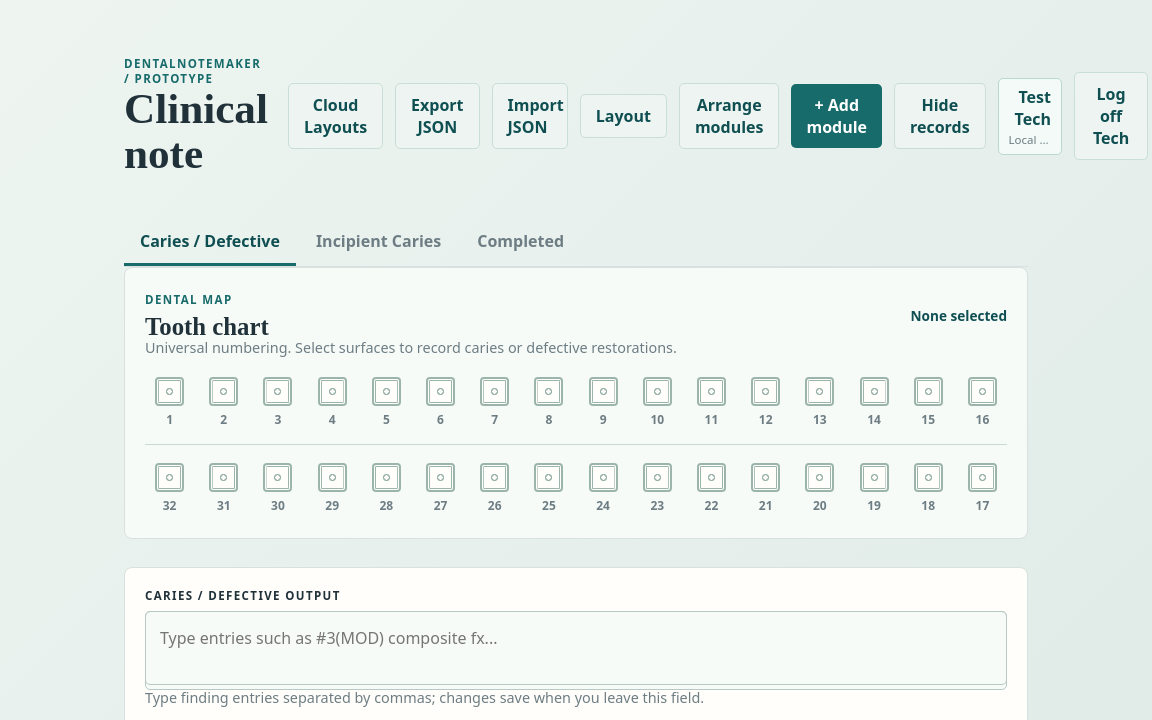
charts incipient caries independently with green surfaces and class 2
Click the tab "Incipient Caries" at point(379, 242), box [300,219,457,266]
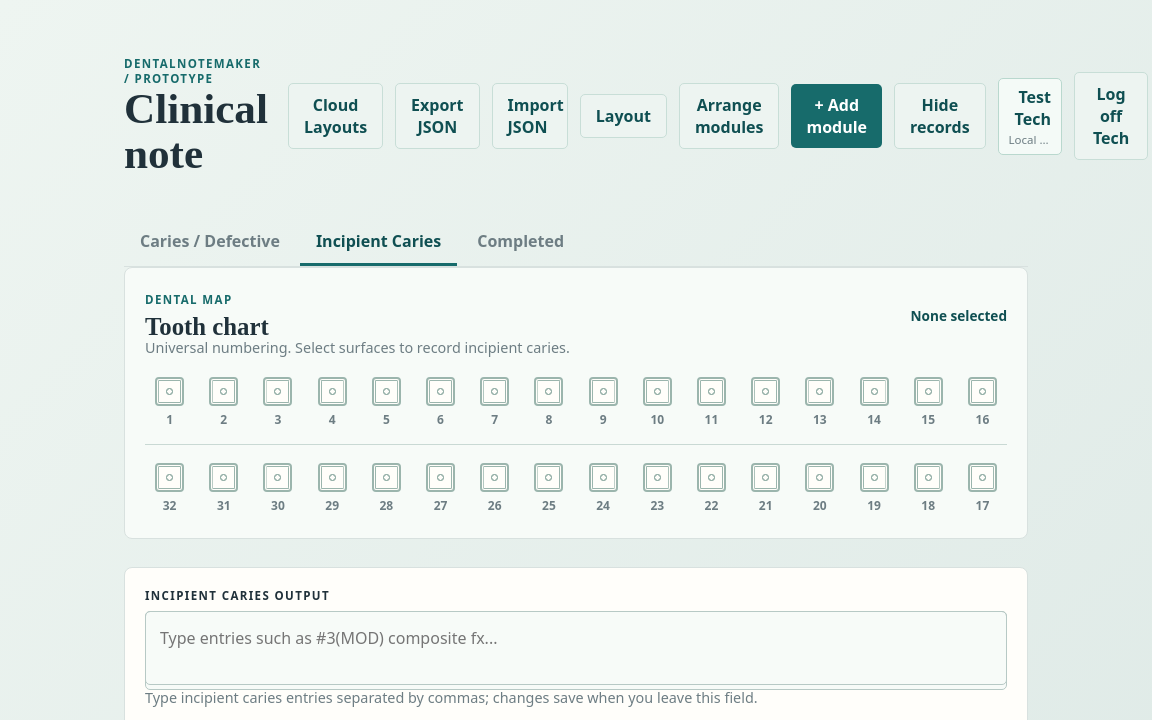
Click the button named "Tooth 30" at point(278, 488), box [253,457,303,518]
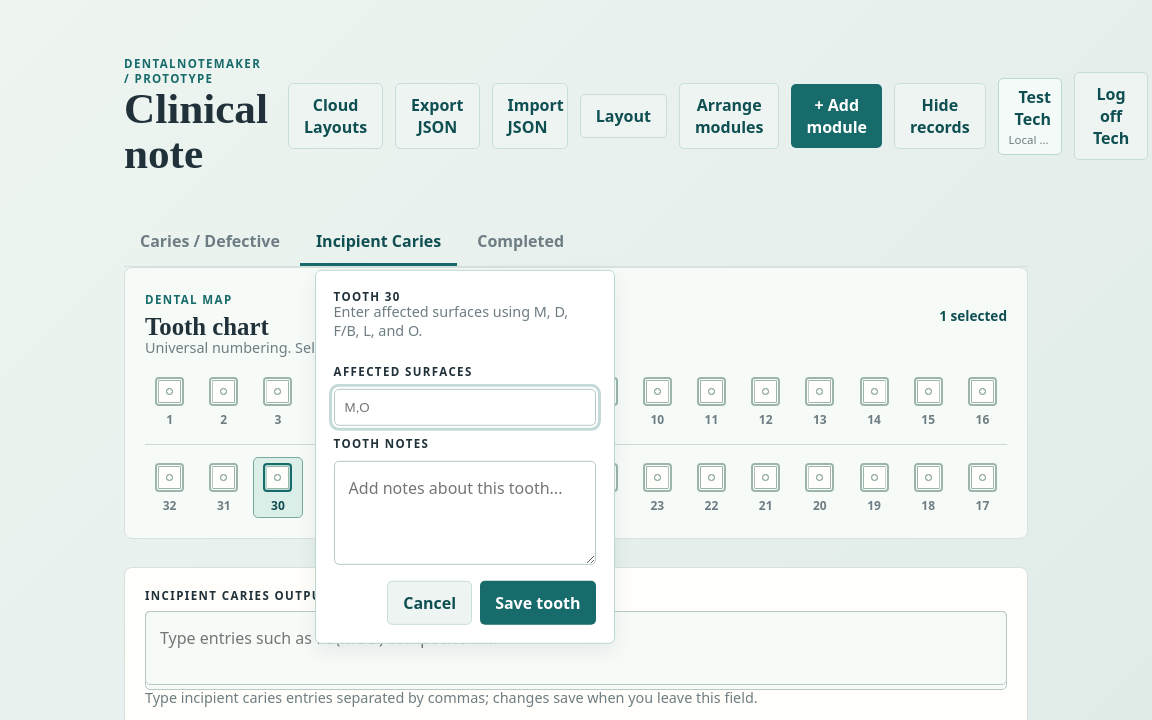
Type "M, O" into the field labelled "Affected surfaces" at point(465, 407), box [334,389,596,426]
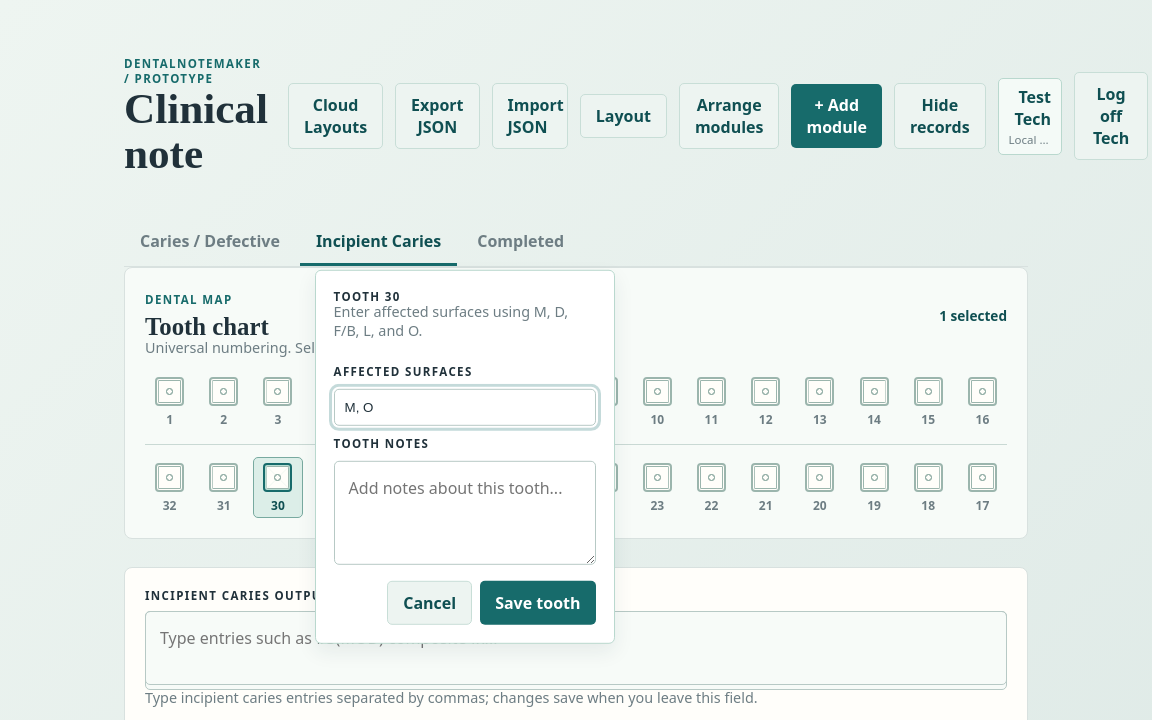
Type "Watch early lesion." into the text box labelled "Tooth notes" at point(465, 513), box [334,461,596,565]
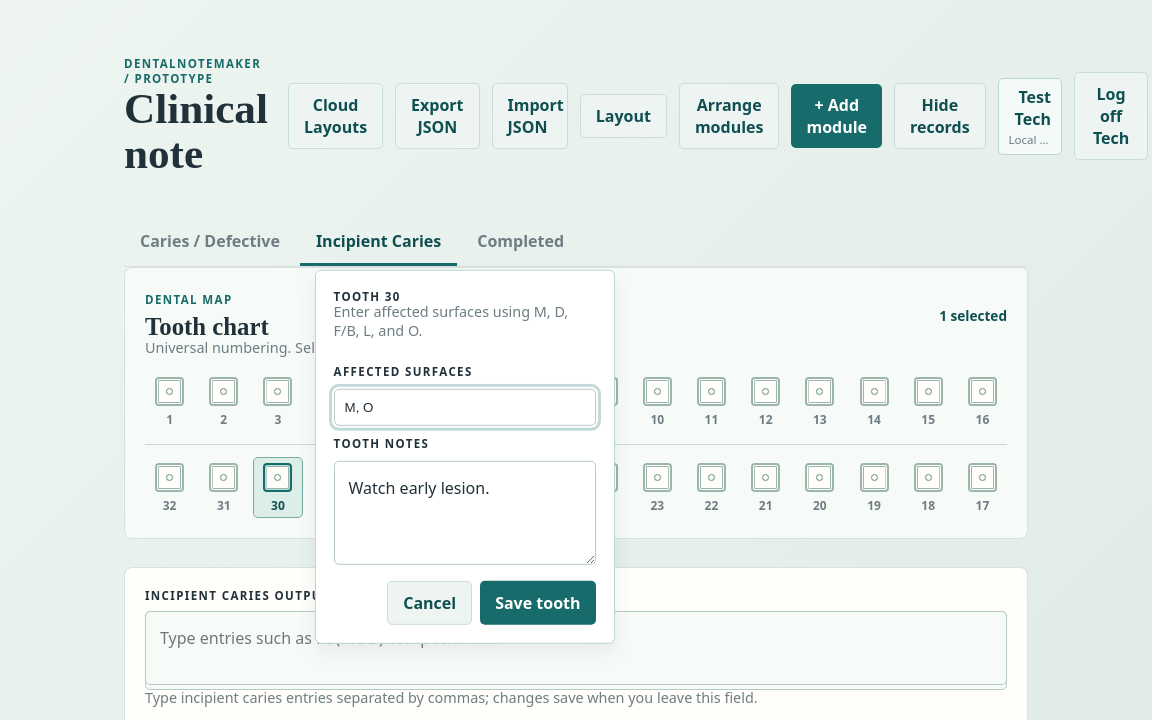
Click the button "Save tooth" at point(538, 603), box [480,581,596,625]
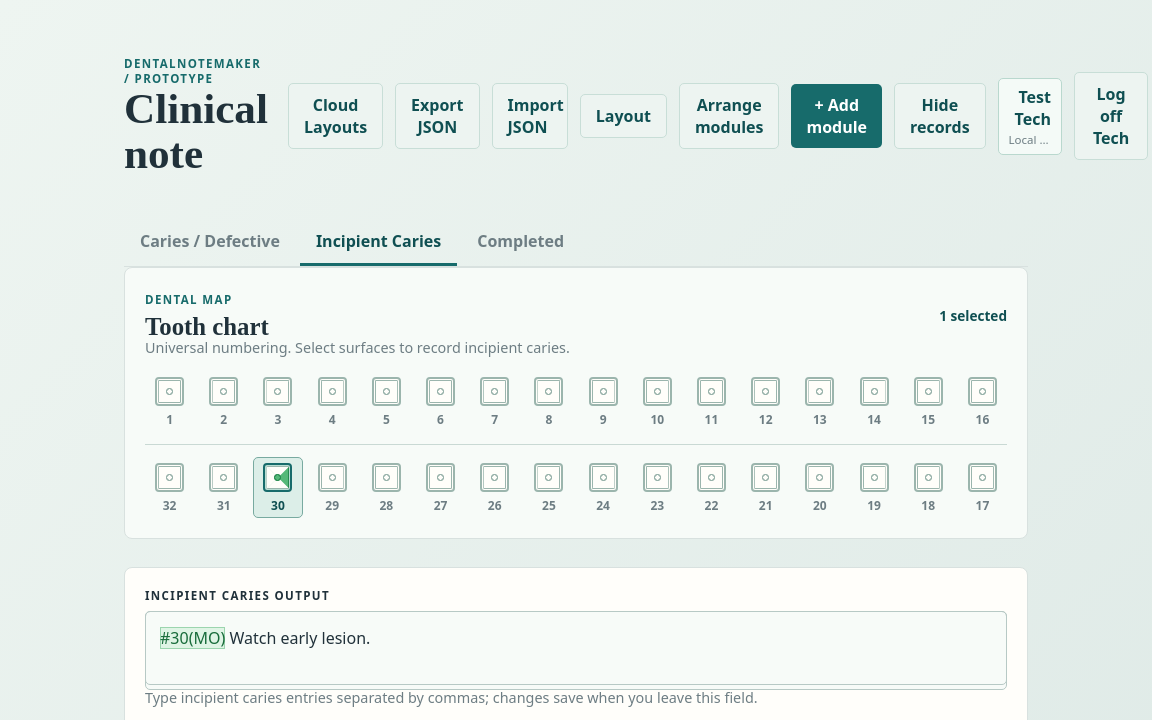
Expected: the text box with id "tooth-summary-output" holds "#30(MO) Watch early lesion.", [145,611,1007,685]
